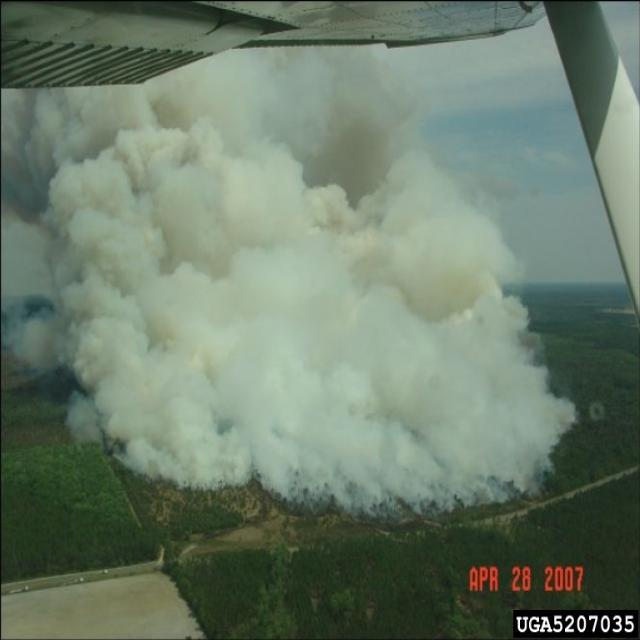Smoke: (0, 45, 579, 522)
